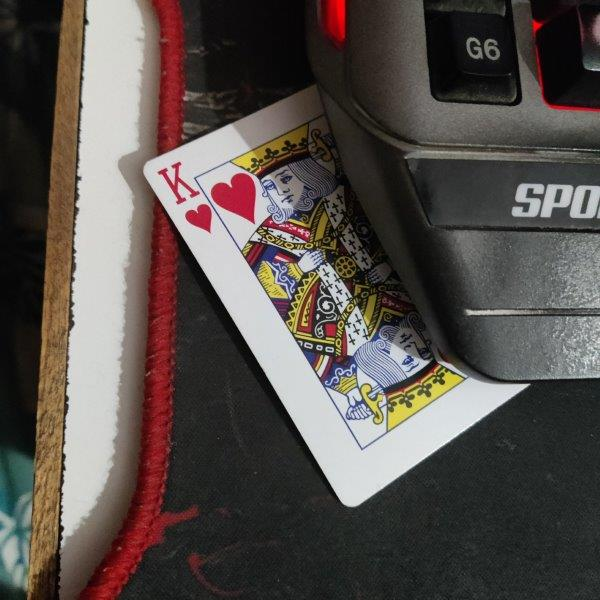King of Hearts: (142, 85, 533, 509)
